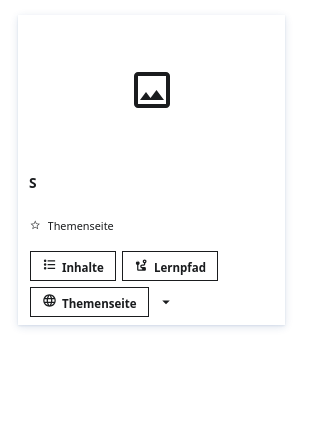
Test: CardListComponent — Themenseiten-Button + Varianten-Dropdown › mehrere Themenseiten: Toggle öffnet/schließt die Varianten-Liste
Click the button with class "tp-toggle": (166, 302) [151, 287, 181, 317]
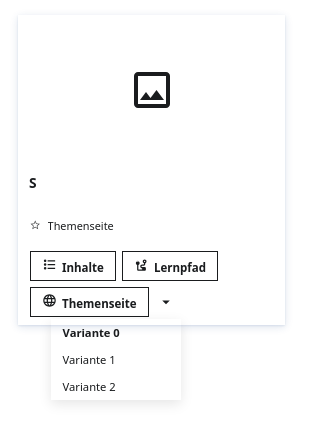
Click the button with class "tp-toggle": (166, 302) [151, 287, 181, 317]
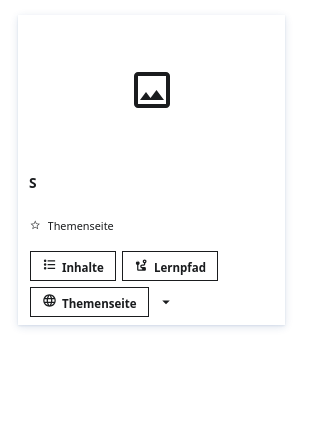
Check: the element with class "tp-dropdown" is gone
